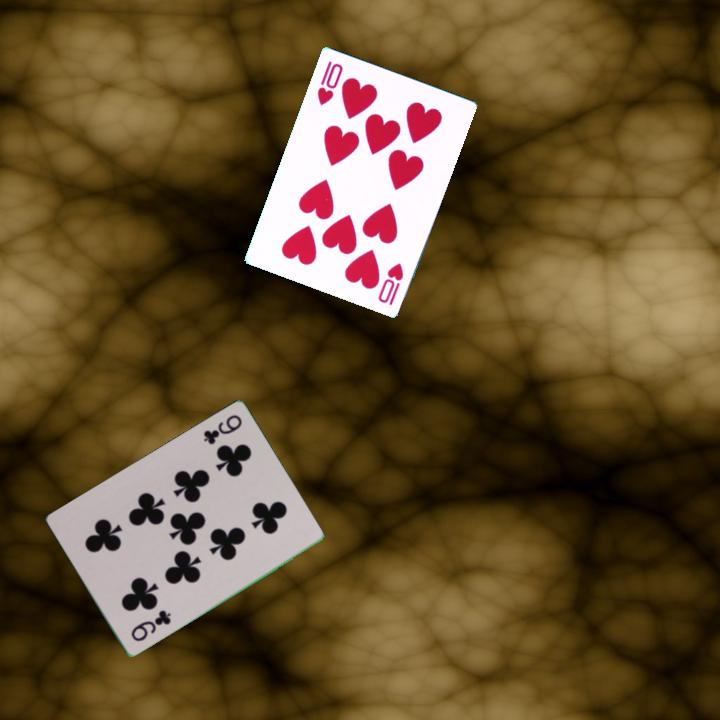10h: (313, 57, 346, 108), (374, 259, 406, 308)
9c: (127, 607, 174, 645), (199, 411, 245, 448)
